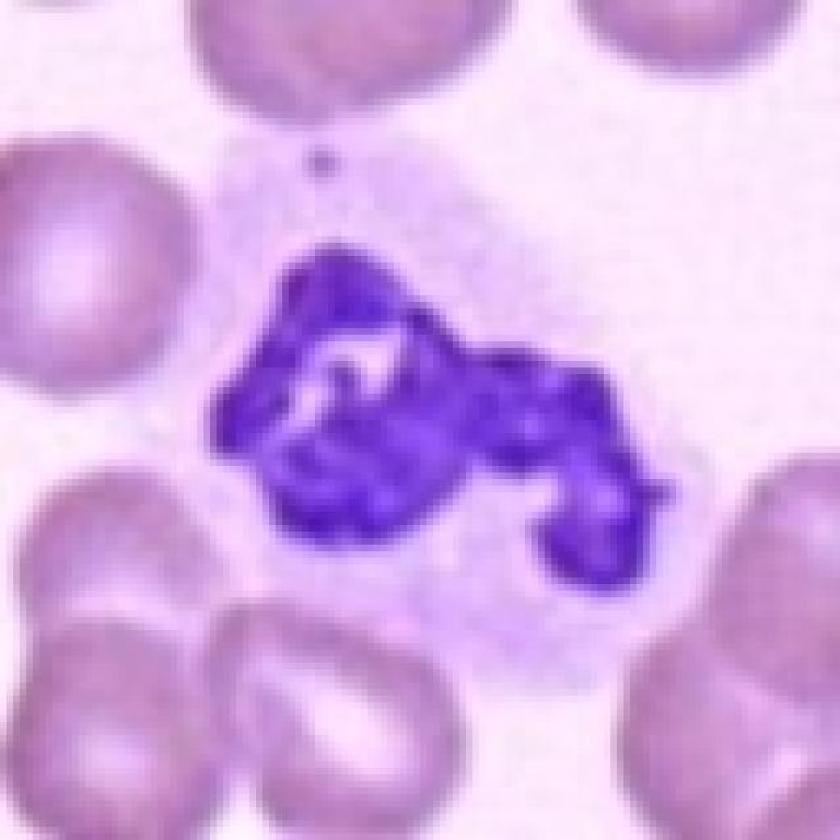neutrophil: (149, 117, 711, 692)
